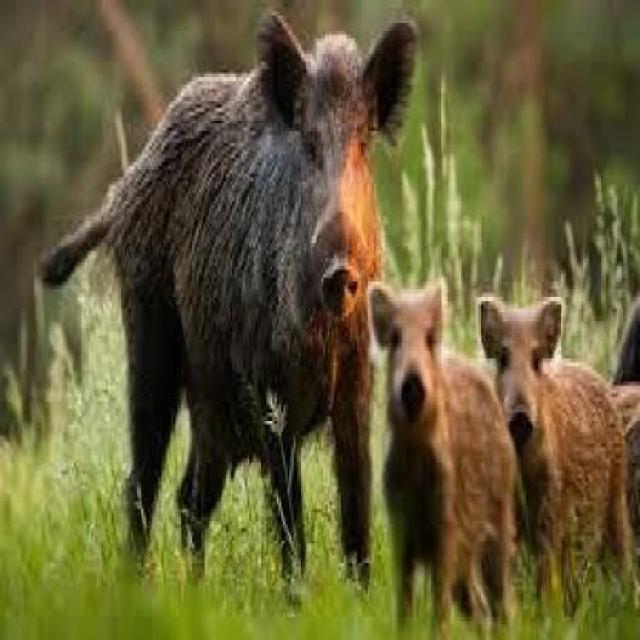wildboar: (35, 3, 416, 608), (364, 277, 518, 640), (472, 292, 640, 620)
